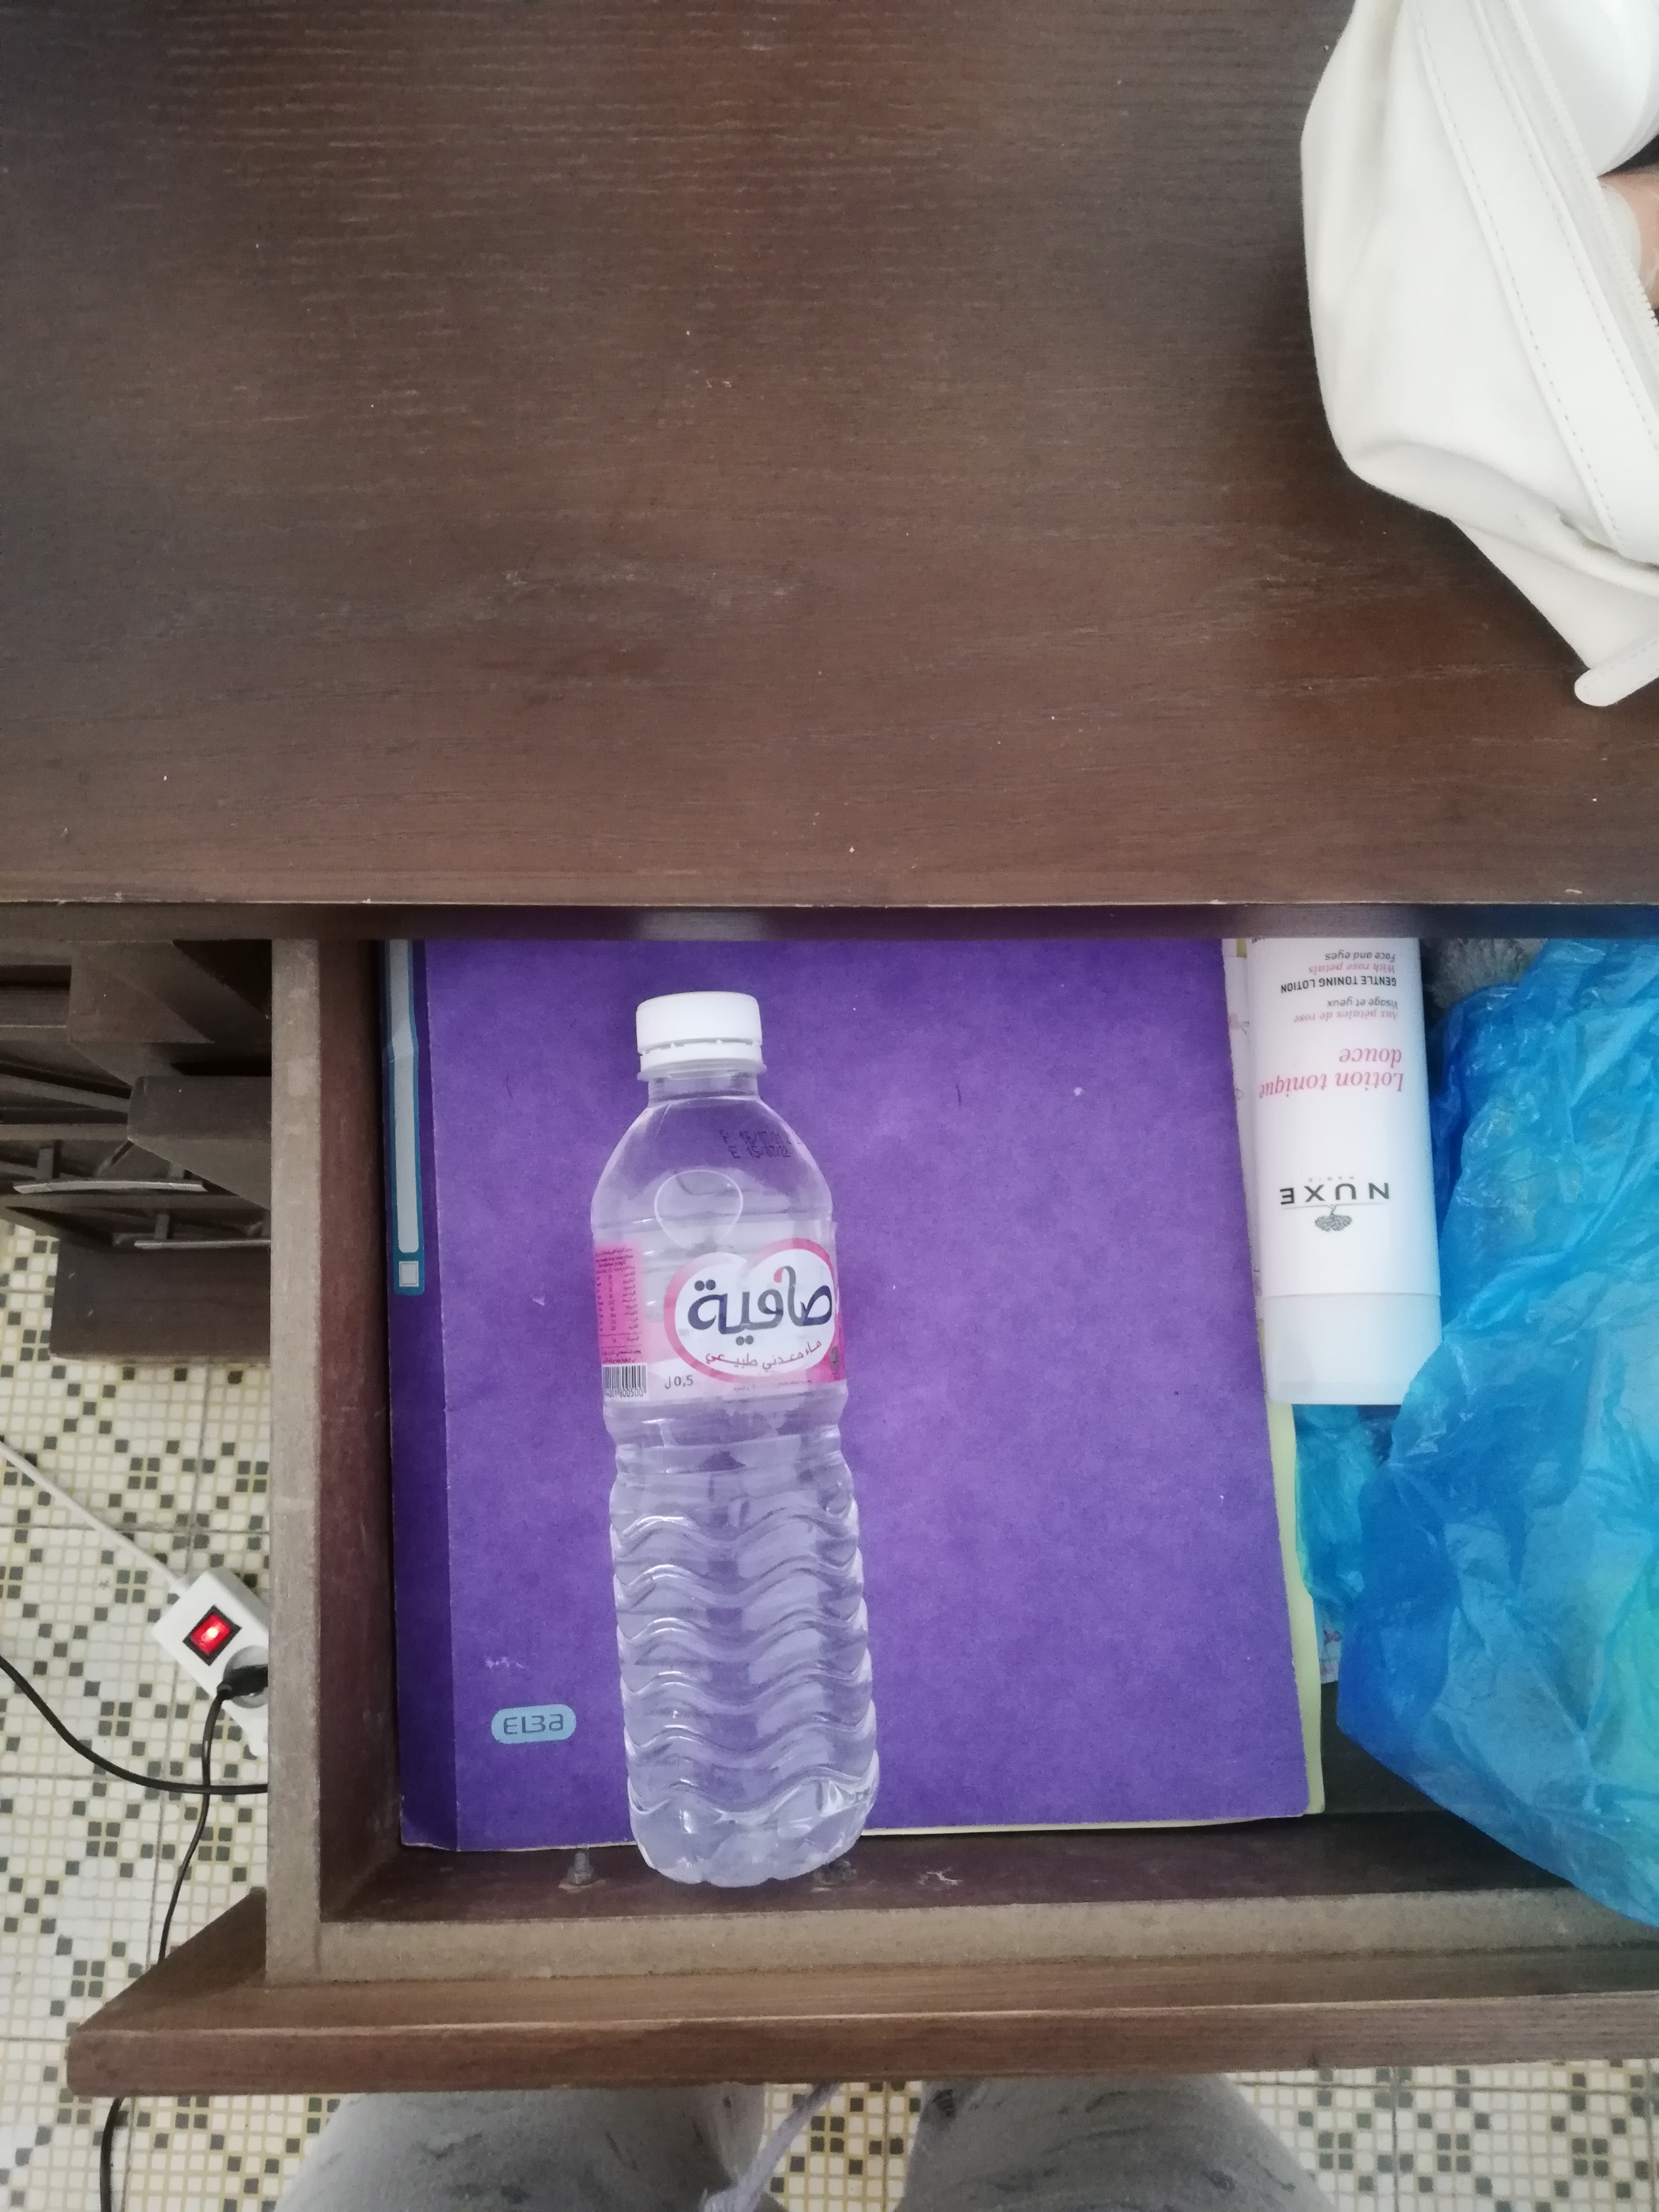Eau safia: (596, 975, 884, 1881)
